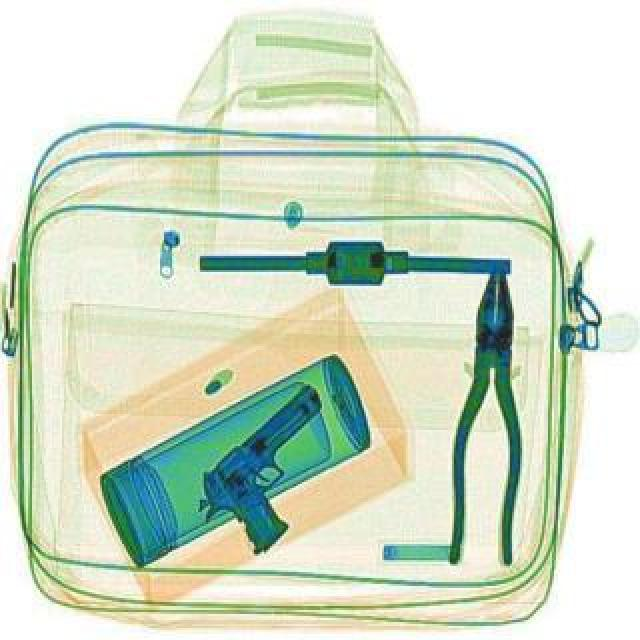gun: (176, 376, 380, 560)
wrench: (444, 264, 532, 564)
